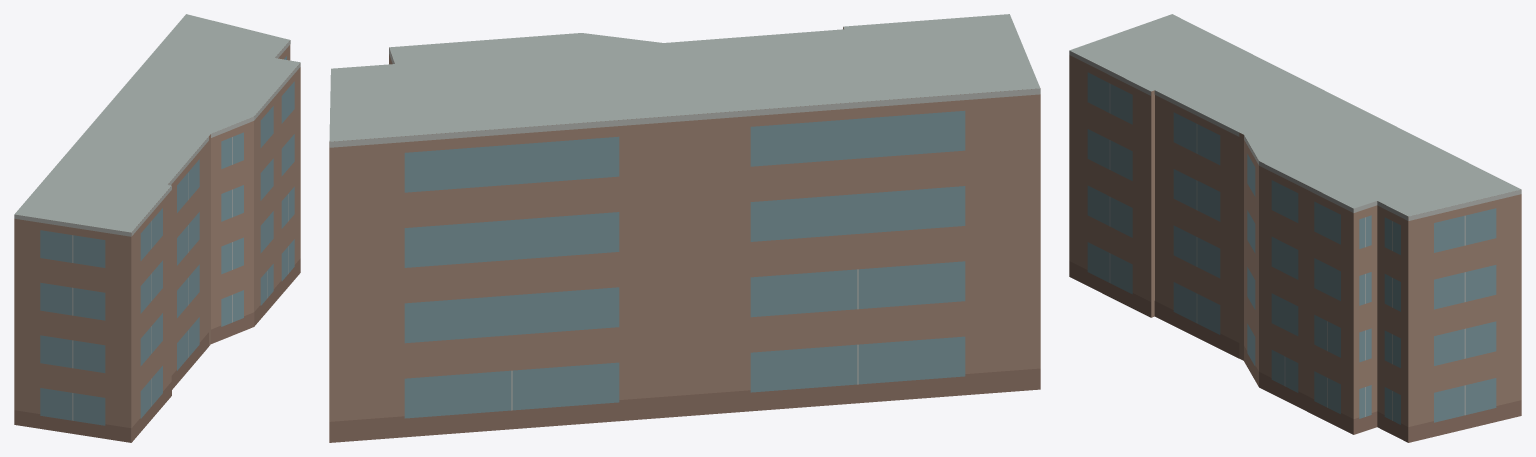
The model's file is survey-upis-32924947.glb.
3 views of the same model, side by side, from view 1: azimuth 30°, elevation 25°; view 2: azimuth 150°, elevation 25°; view 3: azimuth 270°, elevation 25° (orthographic). The views are drawn at different scales.
Visible parts, largest first — view 1: survey-upis-32924947.tmp; view 2: survey-upis-32924947.tmp; view 3: survey-upis-32924947.tmp.
Part boxes in pixels (x1,y1,x2,y2): survey-upis-32924947.tmp: [14, 14, 300, 442]; survey-upis-32924947.tmp: [329, 14, 1040, 442]; survey-upis-32924947.tmp: [1069, 14, 1521, 442].
Size of the model in its own units: 23.44 by 12.2 by 22.12.
